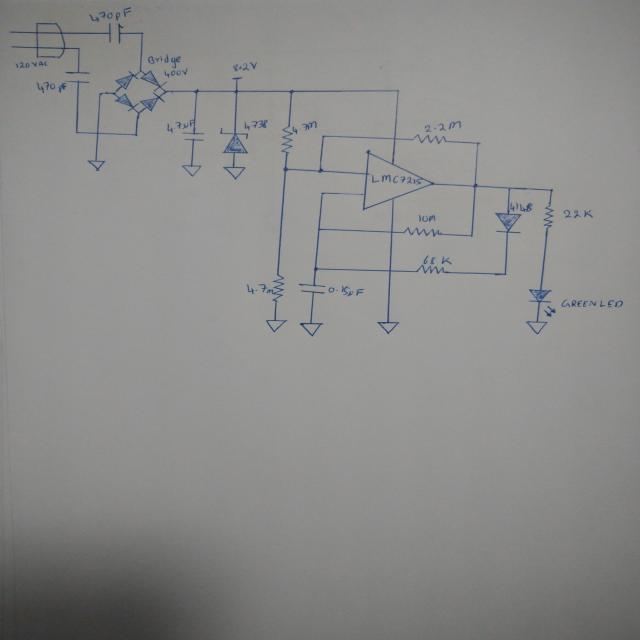capacitor: (63, 70, 91, 84), (298, 283, 325, 295), (108, 22, 122, 45), (182, 132, 206, 142)
crossover: (390, 136, 400, 141), (94, 130, 100, 136), (387, 268, 393, 273), (388, 230, 394, 234)
diode: (527, 288, 556, 317), (220, 128, 251, 154), (494, 212, 521, 234), (140, 70, 166, 90), (140, 92, 165, 111), (115, 70, 138, 90), (114, 93, 138, 111)
ground: (298, 322, 324, 337), (222, 165, 246, 180), (376, 320, 400, 334), (526, 320, 548, 334), (265, 318, 287, 332), (181, 164, 203, 177), (85, 159, 106, 172)
junction: (471, 182, 479, 190), (317, 167, 325, 174), (281, 166, 290, 172), (193, 88, 200, 95), (473, 140, 481, 146), (468, 232, 475, 238), (501, 271, 508, 277), (312, 266, 319, 272), (139, 30, 146, 36), (111, 90, 118, 96), (232, 89, 240, 94), (288, 89, 296, 94), (506, 185, 512, 191), (162, 88, 168, 94), (132, 132, 139, 137), (548, 188, 556, 192), (315, 227, 323, 231), (75, 46, 81, 51), (136, 110, 143, 114), (98, 91, 103, 96), (320, 191, 325, 196), (74, 130, 80, 134), (395, 89, 400, 93), (321, 134, 326, 138), (137, 70, 143, 72)
resistor: (403, 226, 442, 238), (280, 125, 295, 154), (412, 134, 448, 145), (272, 273, 284, 302), (415, 264, 446, 275), (542, 204, 555, 229)
terminal: (230, 75, 243, 82), (7, 44, 15, 49), (5, 30, 14, 34)
text: (561, 298, 624, 308), (88, 7, 132, 21), (368, 173, 422, 184), (147, 54, 182, 67), (328, 285, 364, 297), (424, 121, 461, 132), (166, 119, 194, 133), (245, 282, 272, 296), (36, 81, 66, 93), (292, 121, 318, 134), (561, 209, 594, 219), (422, 255, 452, 265), (15, 60, 48, 68), (243, 120, 268, 130), (164, 68, 189, 78), (232, 62, 257, 72), (509, 202, 534, 212), (417, 214, 436, 222)
